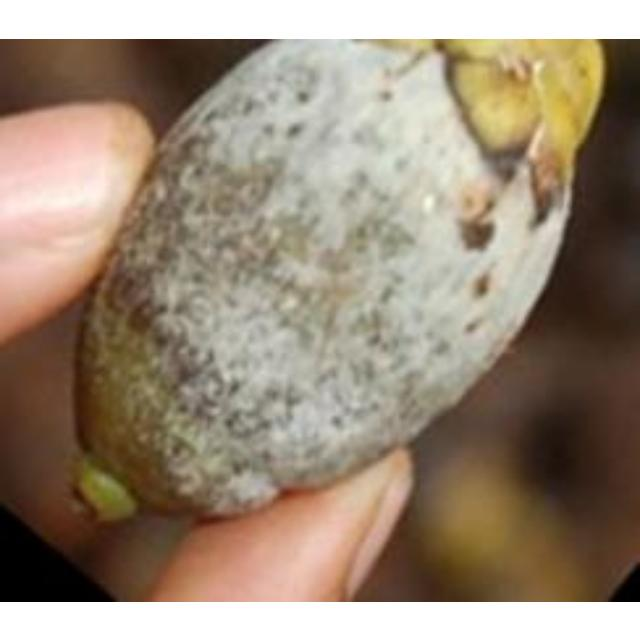damaged: (60, 41, 606, 594)
